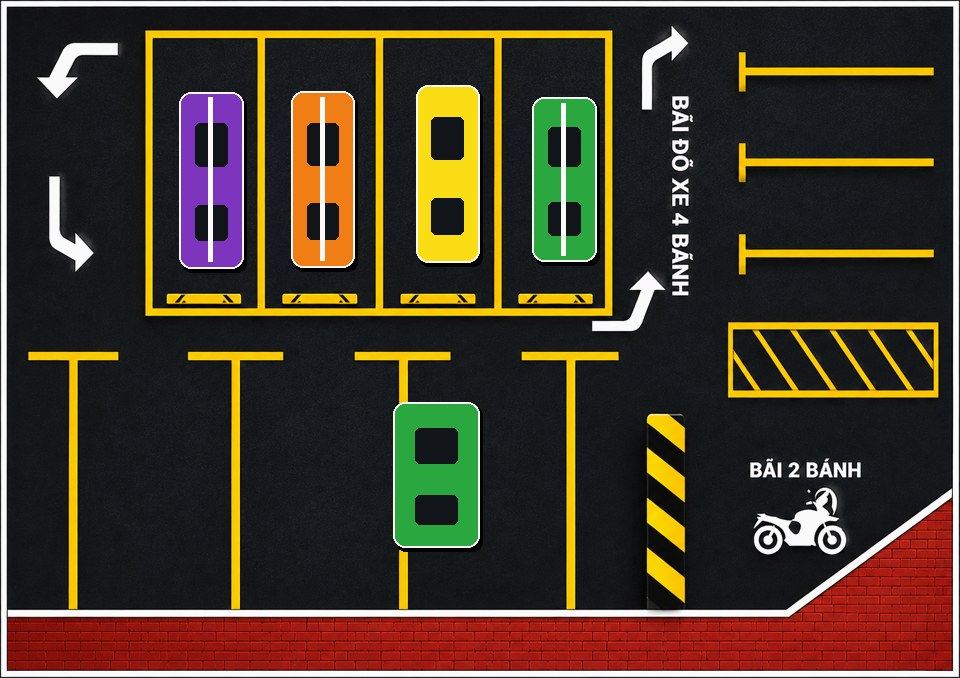empty: (35, 351, 199, 598), (201, 351, 357, 598), (524, 351, 672, 598)
occupied: (360, 351, 518, 598), (148, 35, 267, 309), (267, 35, 386, 309), (386, 35, 505, 309), (505, 35, 624, 309)
